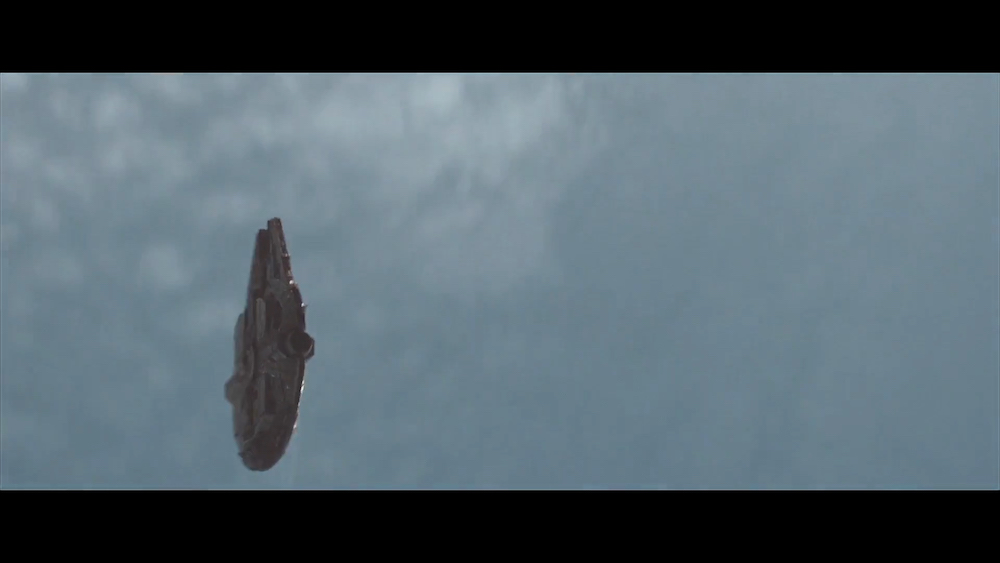Millennium Falcon: (222, 216, 318, 475)
